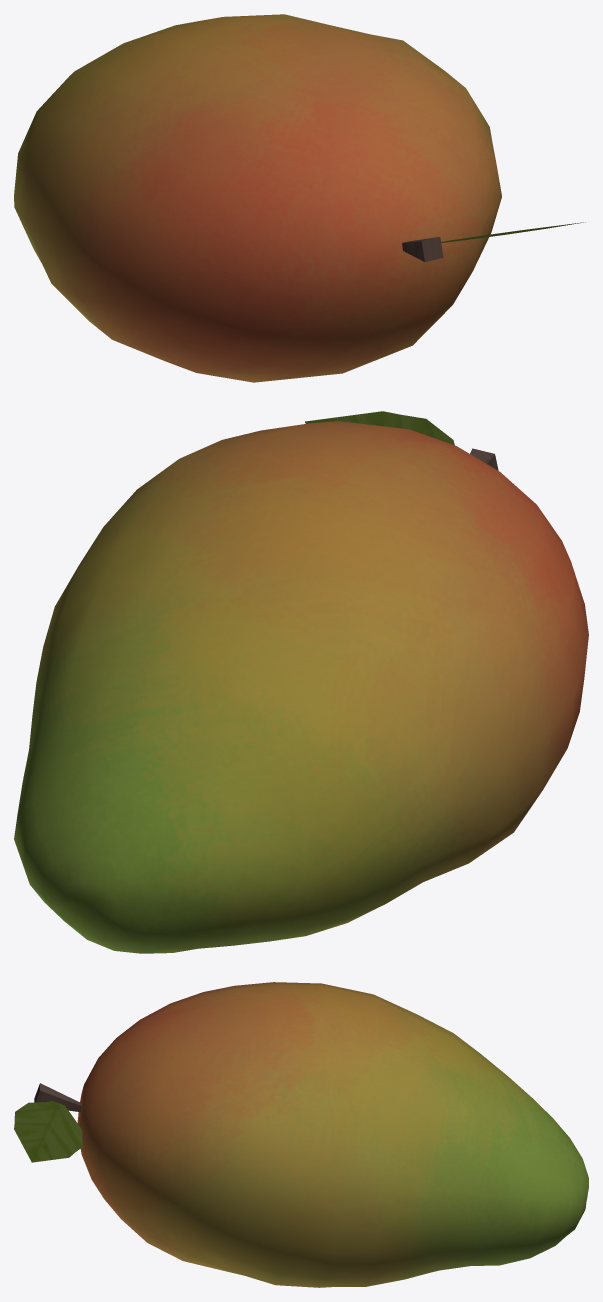
The model's file is SM_Collectible_Mango.fbx.
3 renders of one model, top to bottom at view 1: azimuth 30°, elevation 25°; view 2: azimuth 150°, elevation 25°; view 3: azimuth 270°, elevation 25°, orthographic. The views are drawn at different scales.
Visible parts, largest first — view 1: Mango; view 2: Mango; view 3: Mango.
Boxes of the visible parts, x1=… form: Mango: x1=14, y1=14, x2=585, y2=382; Mango: x1=14, y1=411, x2=588, y2=953; Mango: x1=14, y1=982, x2=588, y2=1287.
Size of the model in its own units: 0.1171 by 0.0942 by 0.1831.
1 material, 1 textured.
